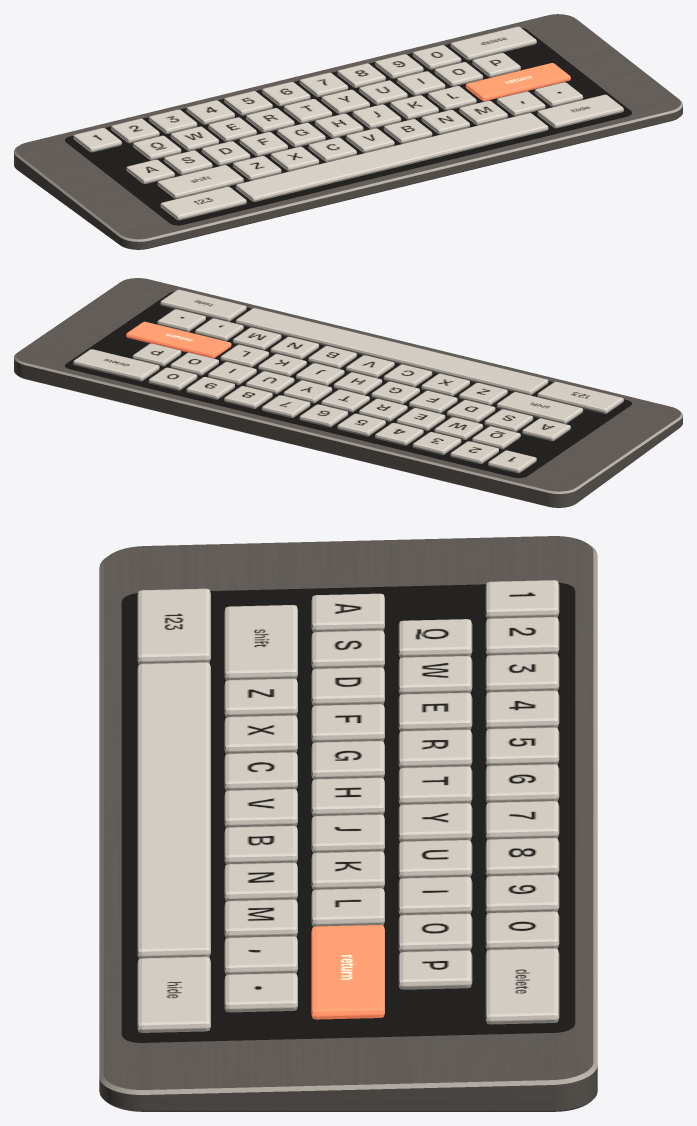
The model's file is desk-keyboard.glb.
3 renders of one model, top to bottom at view 1: azimuth 30°, elevation 25°; view 2: azimuth 150°, elevation 25°; view 3: azimuth 270°, elevation 25°, orthographic. The views are drawn at different scales.
Visible parts, largest first — view 1: Base, KeyWell, Key_Space, Key_Enter, Key_Hide, Key_Backspace, Key_ShiftLeft, Key_Symbols, Key_Digit7, Key_Comma, Key_KeyO, Key_KeyX (+34 smaller); view 2: Base, KeyWell, Key_Space, Key_Enter, Key_Backspace, Key_Hide, Key_Symbols, Key_ShiftLeft, Key_Digit0, Key_Digit6, Key_KeyA, Key_Digit1 (+34 smaller); view 3: Base, KeyWell, Key_Space, Key_Enter, Key_Backspace, Key_Hide, Key_Symbols, Key_ShiftLeft, Key_KeyP, Key_Period, Key_Digit5, Key_KeyT (+34 smaller).
Part boxes in pixels (x1=…): Base: x1=14, y1=14, x2=682, y2=249; KeyWell: x1=65, y1=28, x2=631, y2=225; Key_Space: x1=235, y1=113, x2=548, y2=201; Key_Enter: x1=465, y1=63, x2=570, y2=101; Key_Hide: x1=537, y1=94, x2=623, y2=128; Key_Backspace: x1=450, y1=26, x2=536, y2=60; Key_ShiftLeft: x1=157, y1=165, x2=243, y2=198; Key_Symbols: x1=160, y1=186, x2=246, y2=220; Key_Digit7: x1=299, y1=72, x2=348, y2=97; Key_Comma: x1=496, y1=91, x2=545, y2=115; Key_KeyO: x1=434, y1=62, x2=483, y2=86; Key_KeyX: x1=270, y1=146, x2=319, y2=171; Base: x1=14, y1=278, x2=682, y2=507; KeyWell: x1=65, y1=291, x2=631, y2=477; Key_Space: x1=235, y1=308, x2=548, y2=395; Key_Enter: x1=126, y1=321, x2=231, y2=358; Key_Backspace: x1=73, y1=349, x2=159, y2=381; Key_Hide: x1=160, y1=289, x2=246, y2=321; Key_Symbols: x1=537, y1=381, x2=623, y2=413; Key_ShiftLeft: x1=496, y1=392, x2=583, y2=423; Key_Digit0: x1=148, y1=367, x2=197, y2=390; Key_Digit6: x1=299, y1=404, x2=348, y2=427; Key_KeyA: x1=522, y1=418, x2=570, y2=441; Key_Digit1: x1=488, y1=450, x2=536, y2=473; Base: x1=99, y1=536, x2=597, y2=1111; KeyWell: x1=121, y1=582, x2=575, y2=1042; Key_Space: x1=137, y1=662, x2=210, y2=958; Key_Enter: x1=311, y1=925, x2=384, y2=1019; Key_Backspace: x1=485, y1=948, x2=559, y2=1024; Key_Hide: x1=137, y1=956, x2=210, y2=1032; Key_Symbols: x1=137, y1=588, x2=210, y2=664; Key_ShiftLeft: x1=224, y1=605, x2=297, y2=680; Key_KeyP: x1=398, y1=950, x2=472, y2=989; Key_Period: x1=224, y1=973, x2=297, y2=1012; Key_Digit5: x1=485, y1=727, x2=559, y2=766; Key_KeyT: x1=398, y1=766, x2=472, y2=805.
Bounding box in the file's own units: 0.29 × 0.0105 × 0.1115.
Materials: 5 (3 with a texture image).
